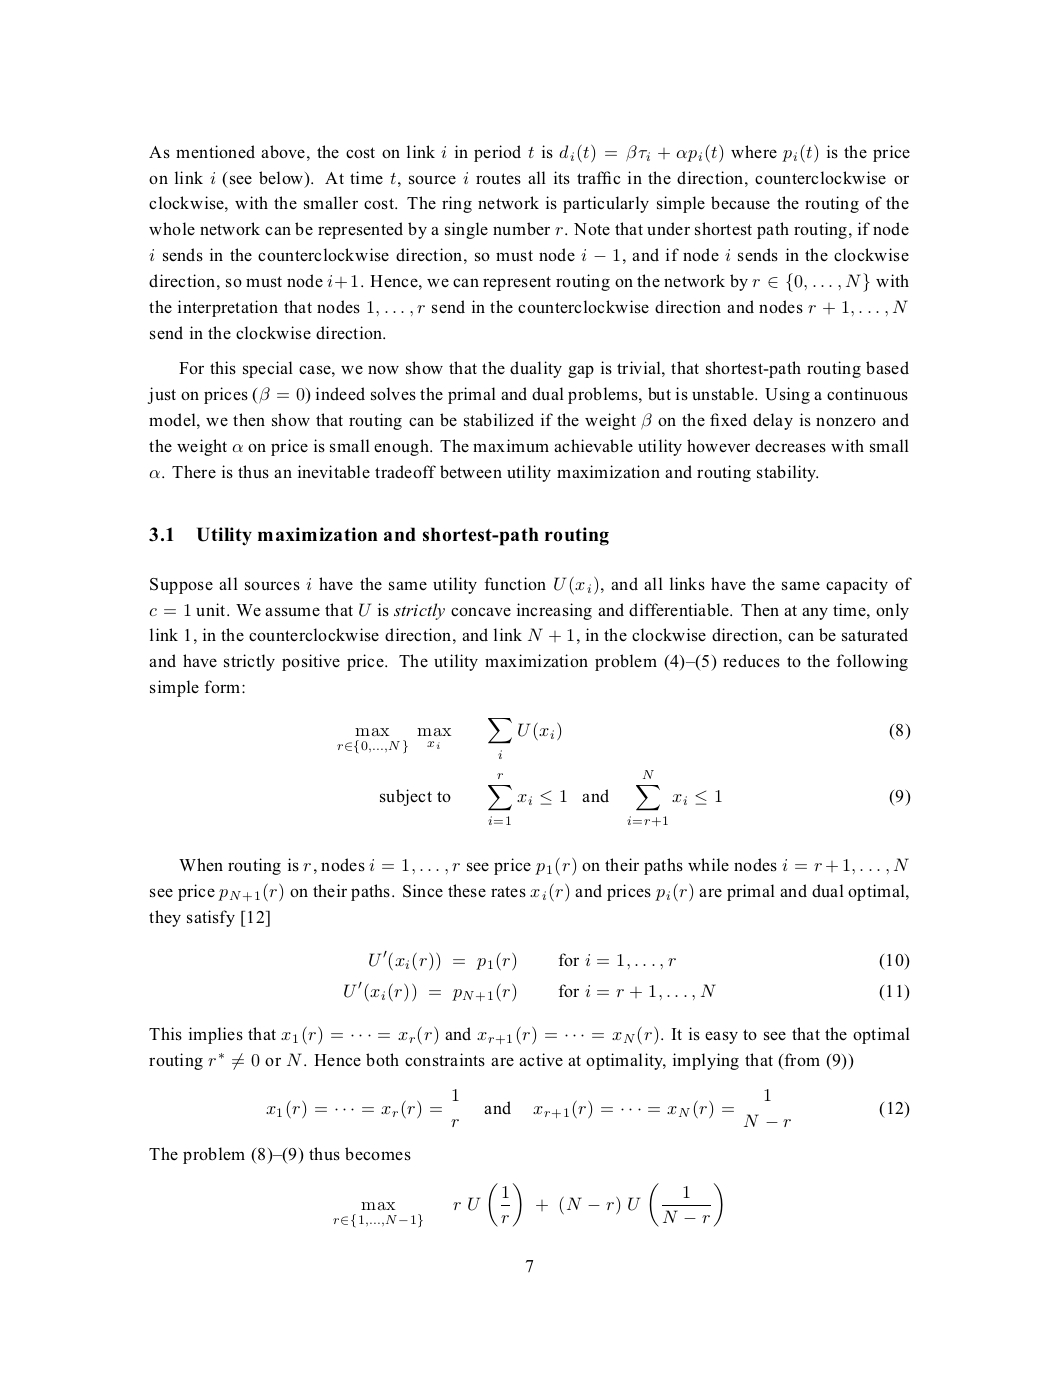formula: (379, 770, 911, 826), (266, 1088, 909, 1128), (337, 717, 911, 759), (333, 1182, 722, 1228), (344, 980, 909, 1002), (369, 950, 909, 971)
